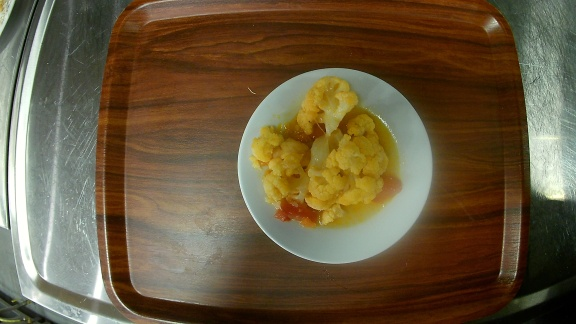karnibahar: (235, 66, 436, 265)
